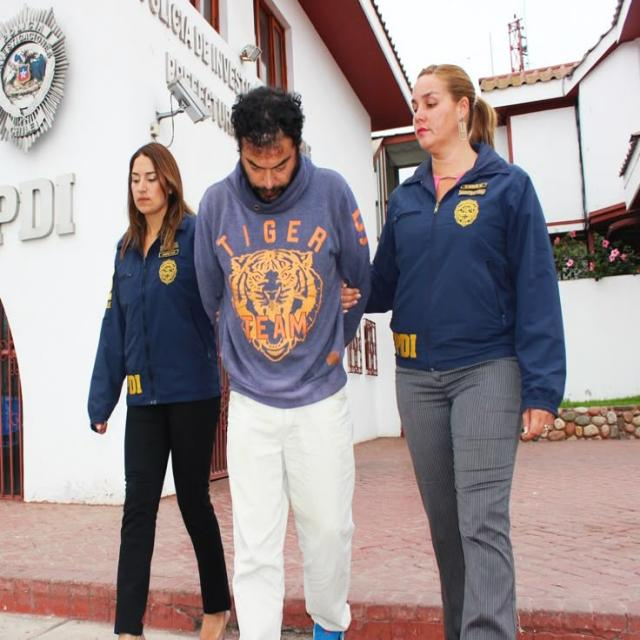9_cabeza_baja: (231, 88, 305, 201)
